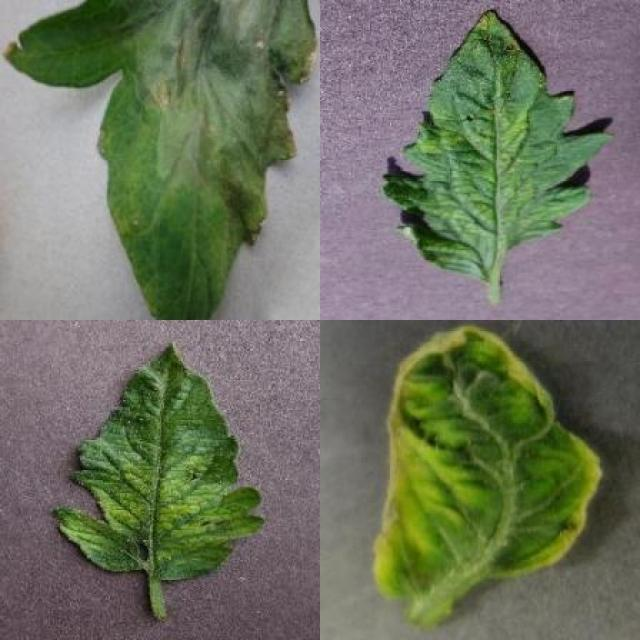Late Blight: (4, 0, 317, 320)
Mosaic Virus: (383, 7, 616, 282), (50, 340, 267, 580)
Yellow Leaf Curl Virus: (375, 324, 605, 600)
